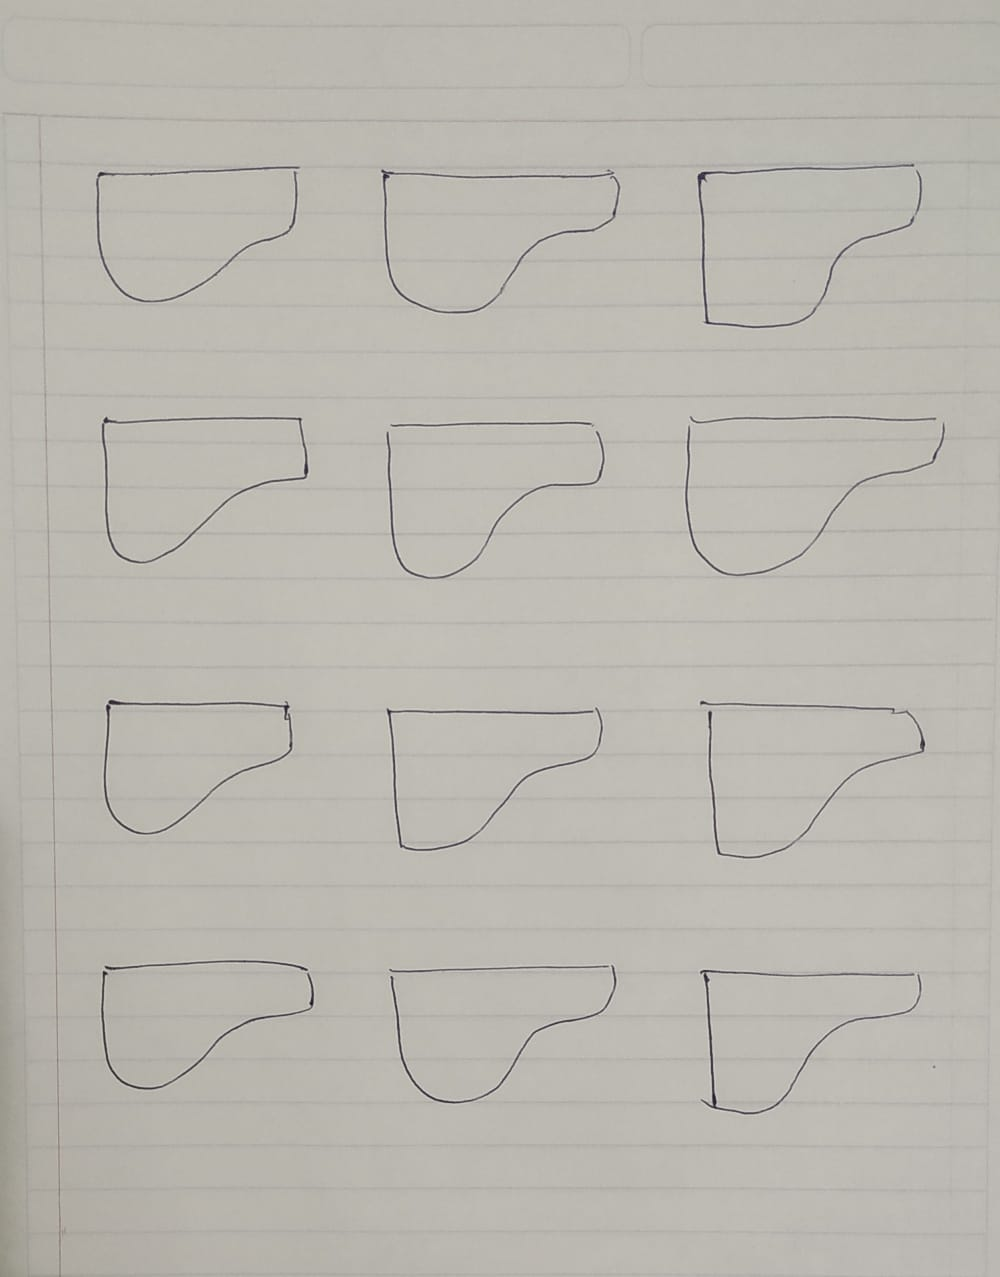print: (661, 385, 960, 603), (678, 142, 944, 350), (364, 144, 639, 329), (685, 675, 936, 872), (367, 401, 619, 596), (369, 681, 621, 869), (681, 942, 938, 1126), (81, 390, 324, 583), (372, 943, 632, 1114), (76, 147, 314, 317), (86, 943, 328, 1101), (90, 685, 308, 843)
